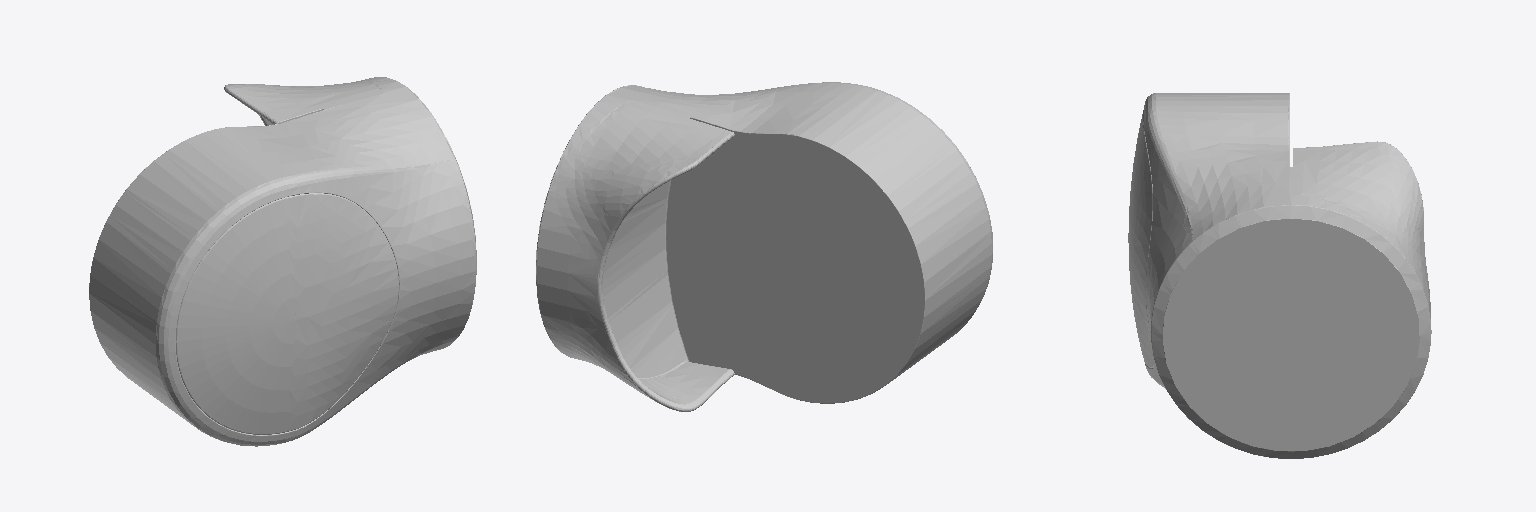
File: arm_2.obj
3 views of the same model, side by side, from view 1: azimuth 30°, elevation 25°; view 2: azimuth 150°, elevation 25°; view 3: azimuth 270°, elevation 25° (orthographic).
Visible parts, largest first — view 1: arm_2; view 2: arm_2; view 3: arm_2.
Boxes of the visible parts, box(x1,y1,x2,y2) form: arm_2: box(89, 77, 476, 446); arm_2: box(536, 82, 992, 411); arm_2: box(1128, 93, 1431, 458).
Size of the model in its own units: 0.1335 by 0.104 by 0.108.